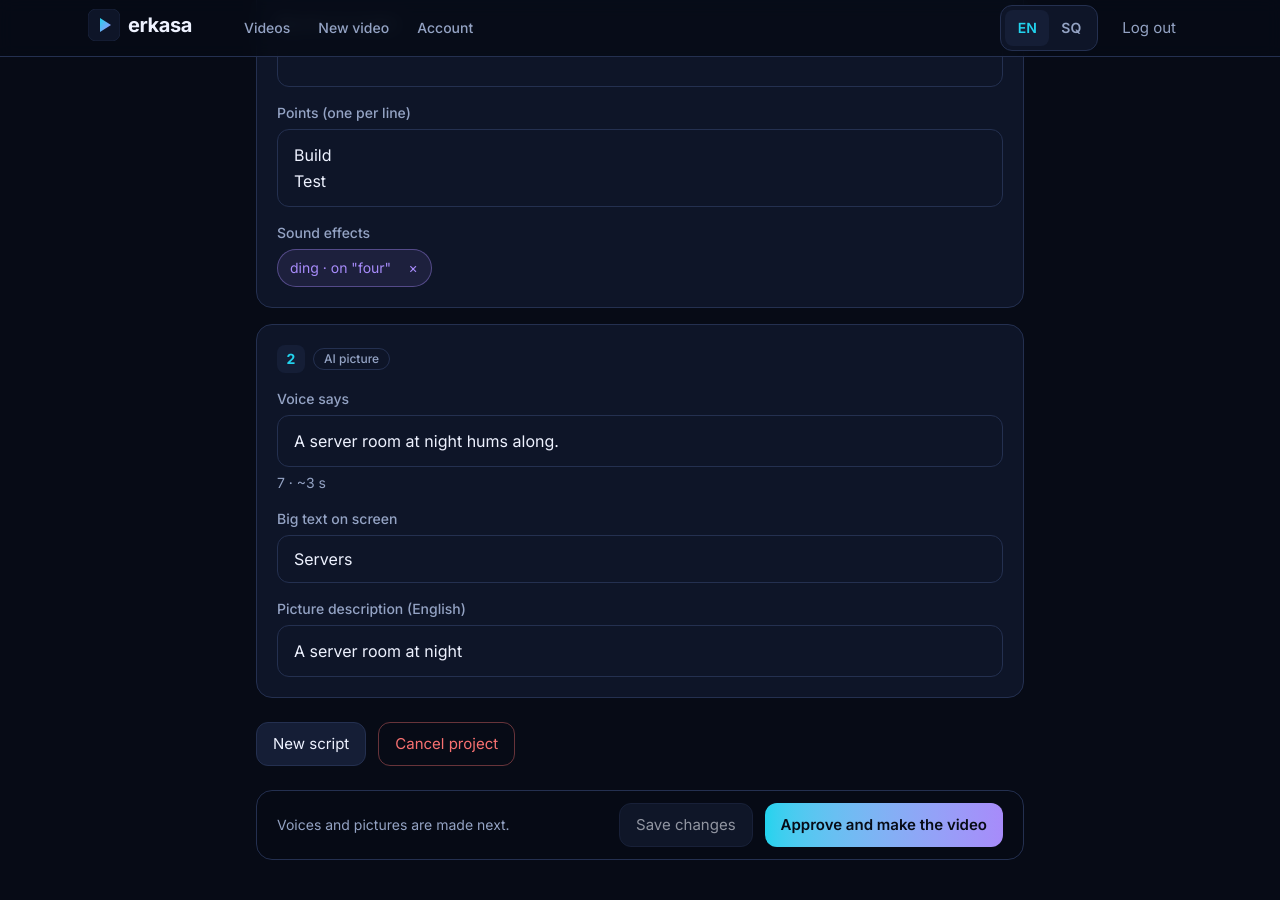
script review › approve saves unsaved changes first, then starts the files
The image size is (1280, 900).
(page scrolled)
Step 1. Type ", rain outside" into the text box labelled "Picture description (English)" → coordinates (640, 651), box top-left (277, 625), bottom-right (1003, 677)
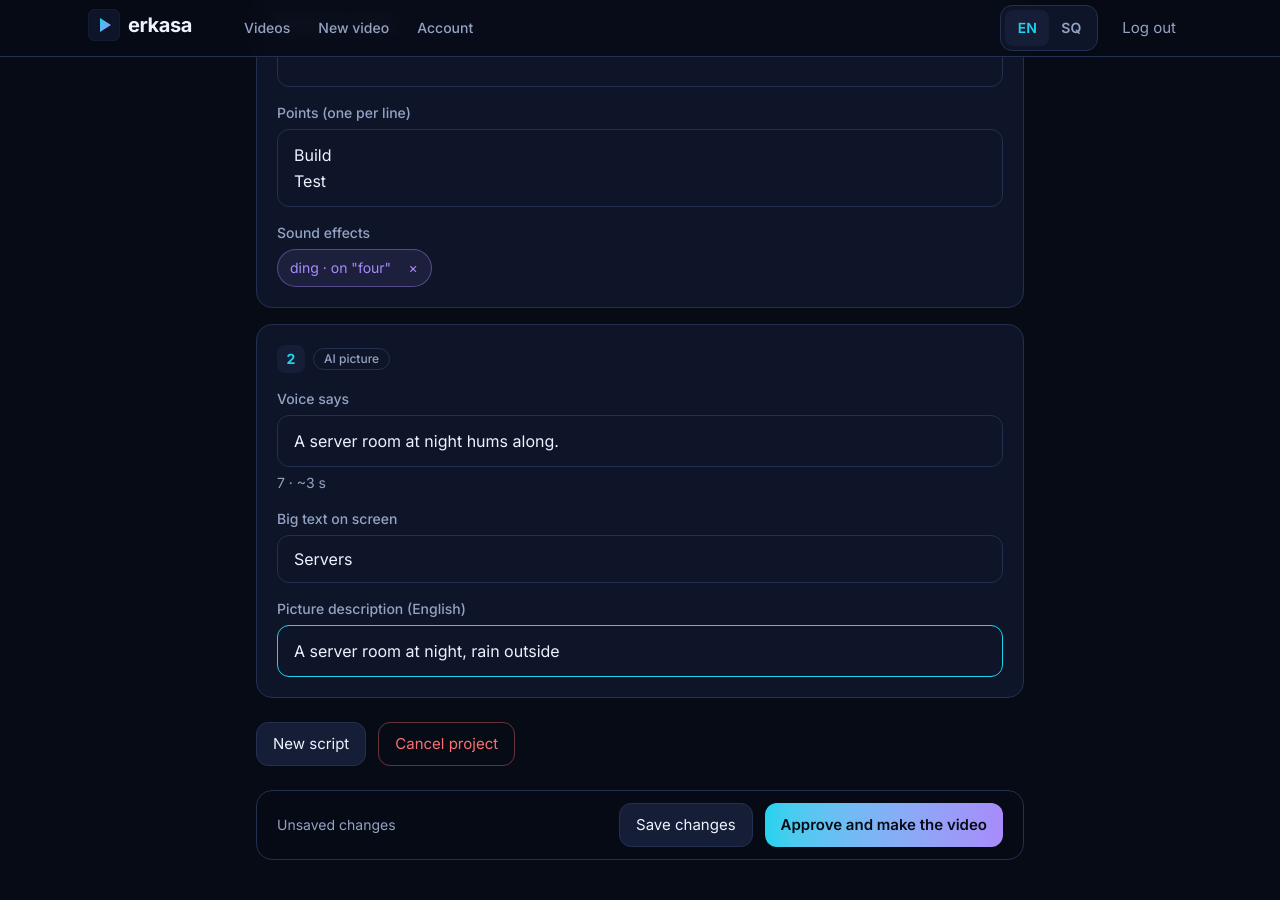
Step 2. Click the button "Approve and make the video" → coordinates (884, 825), box top-left (764, 803), bottom-right (1003, 847)
(page scrolled)
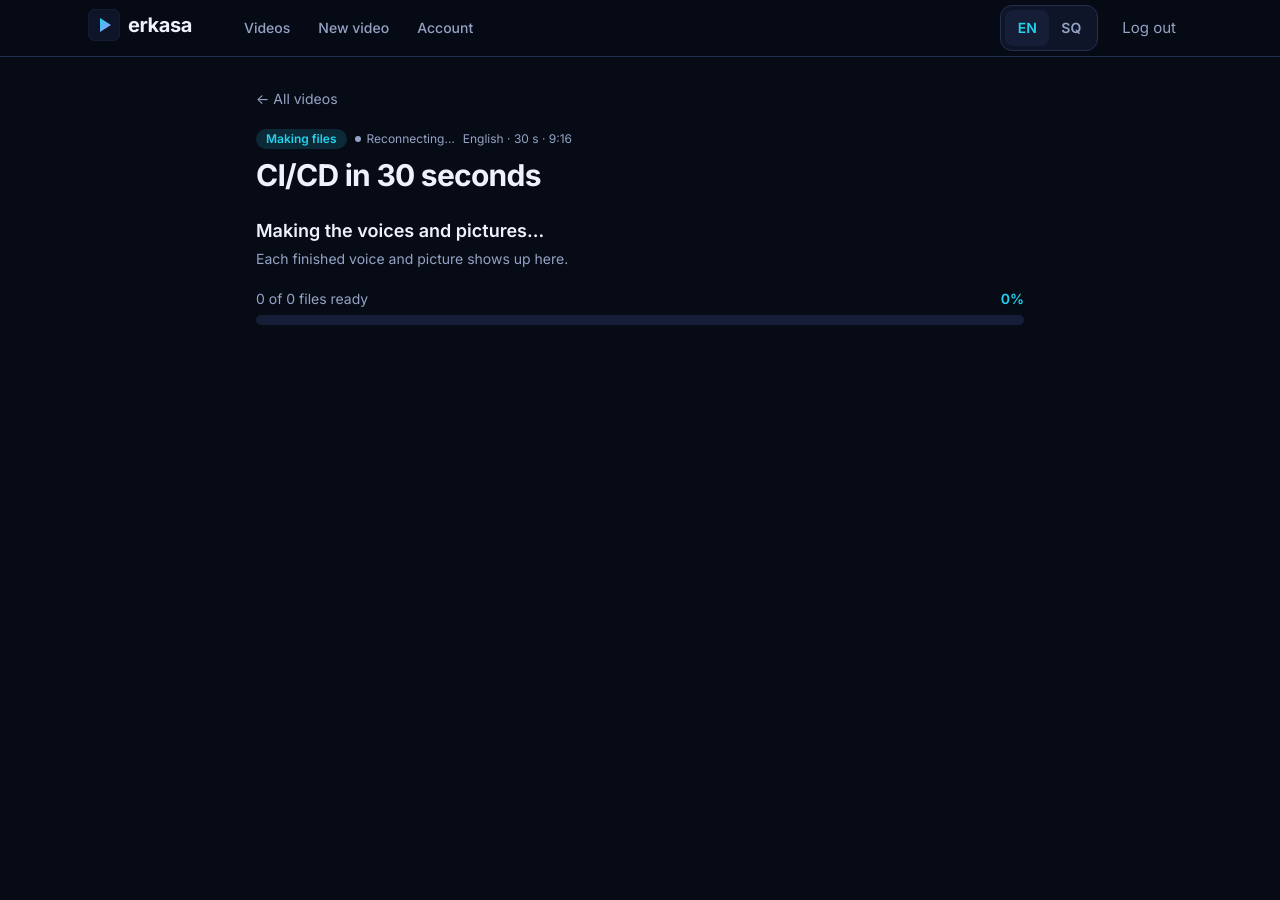
Result: the heading "Making the voices and pictures…" is shown at top-left (256, 220), bottom-right (544, 241)
